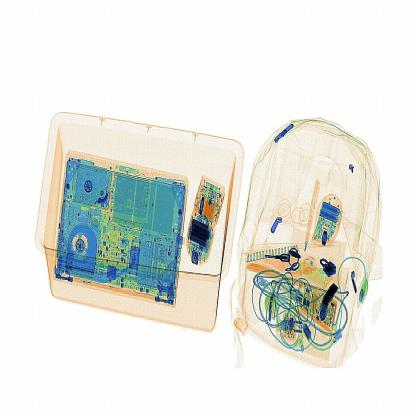scissors: (318, 280, 342, 312)
